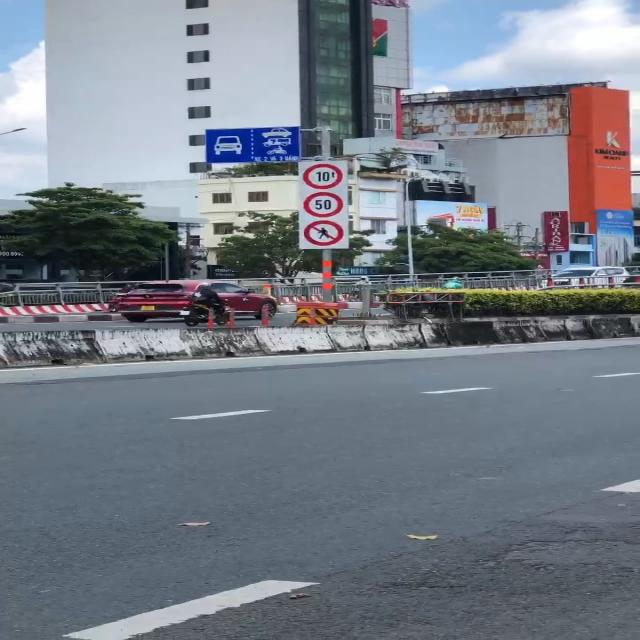Bien bao cam nguoi di bo: (304, 218, 347, 250)
Bien bao toc do toi da cho phep: (302, 190, 346, 218)
